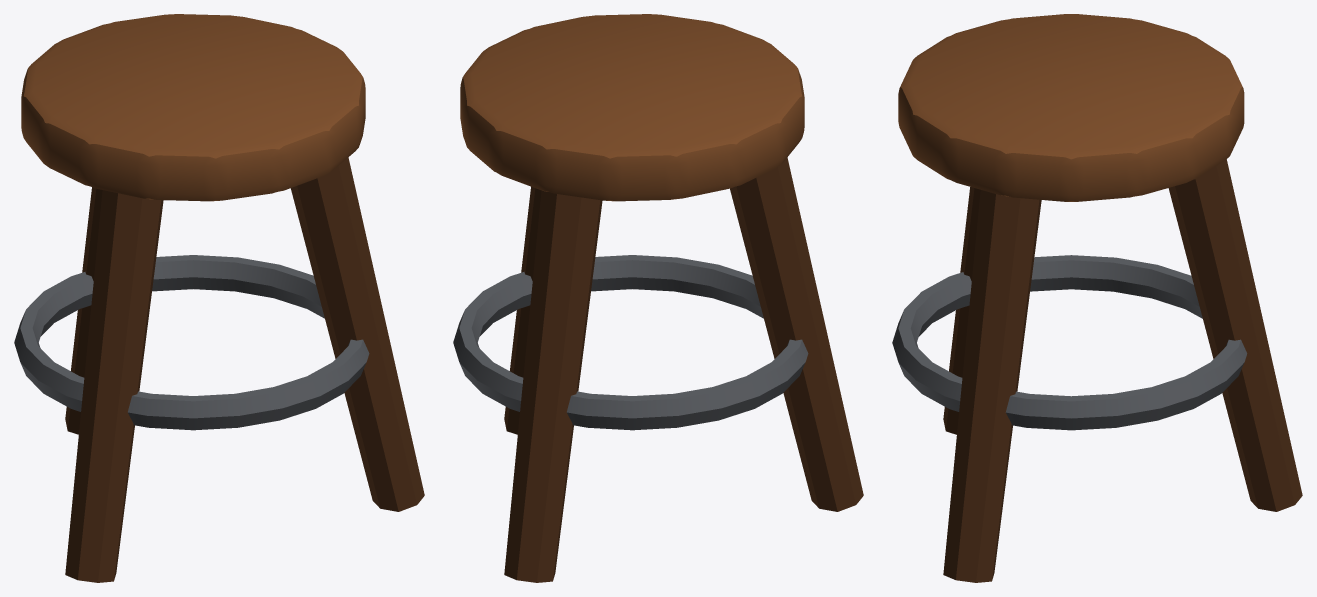
The model's file is wooden-stool_final.glb.
The picture shows the model from 3 angles, left to right: view 1: azimuth 30°, elevation 25°; view 2: azimuth 150°, elevation 25°; view 3: azimuth 270°, elevation 25°; orthographic projection.
Visible parts, largest first — view 1: SM_WoodenStool_Seat, SM_WoodenStool_Leg_02, SM_WoodenStool_Band, SM_WoodenStool_Leg_03, SM_WoodenStool_Leg_01; view 2: SM_WoodenStool_Seat, SM_WoodenStool_Leg_01, SM_WoodenStool_Band, SM_WoodenStool_Leg_02, SM_WoodenStool_Leg_03; view 3: SM_WoodenStool_Seat, SM_WoodenStool_Leg_03, SM_WoodenStool_Band, SM_WoodenStool_Leg_01, SM_WoodenStool_Leg_02.
Part boxes in pixels (<box>): SM_WoodenStool_Seat: <box>21,14,365,201</box>; SM_WoodenStool_Leg_02: <box>65,190,163,582</box>; SM_WoodenStool_Band: <box>14,255,369,430</box>; SM_WoodenStool_Leg_03: <box>290,157,424,511</box>; SM_WoodenStool_Leg_01: <box>65,187,102,434</box>; SM_WoodenStool_Seat: <box>460,14,804,201</box>; SM_WoodenStool_Leg_01: <box>504,190,602,582</box>; SM_WoodenStool_Band: <box>453,255,808,430</box>; SM_WoodenStool_Leg_02: <box>730,157,863,511</box>; SM_WoodenStool_Leg_03: <box>504,186,541,434</box>; SM_WoodenStool_Seat: <box>898,14,1244,201</box>; SM_WoodenStool_Leg_03: <box>943,190,1041,582</box>; SM_WoodenStool_Band: <box>892,255,1247,430</box>; SM_WoodenStool_Leg_01: <box>1168,159,1302,511</box>; SM_WoodenStool_Leg_02: <box>943,187,980,434</box>.
Size of the model in its own units: 0.3959 by 0.45 by 0.4001.
